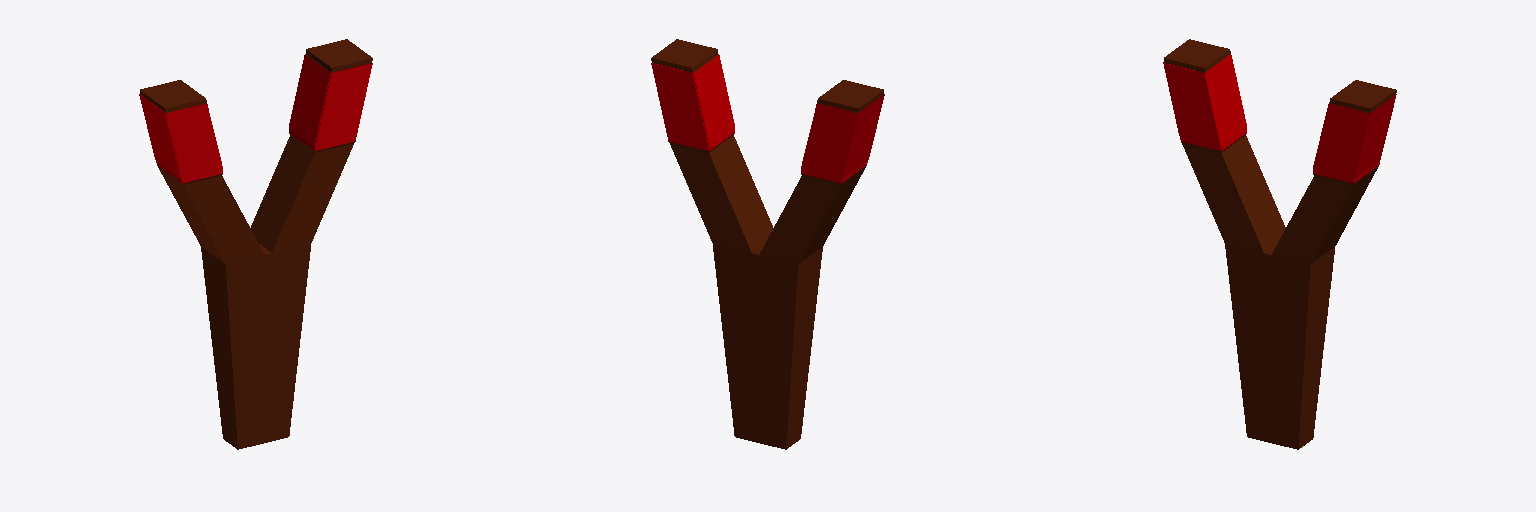
Rendered from slingshot.obj.
3 renders of one model, left to right at view 1: azimuth 30°, elevation 25°; view 2: azimuth 150°, elevation 25°; view 3: azimuth 330°, elevation 25°, orthographic.
Parts seen in each view (by area): view 1: Estilingue_Material.004_0, Estilingue_Material.003_0; view 2: Estilingue_Material.004_0, Estilingue_Material.003_0; view 3: Estilingue_Material.004_0, Estilingue_Material.003_0.
Part boxes in pixels (bbox=[...]): Estilingue_Material.004_0: bbox=[140, 39, 372, 449]; Estilingue_Material.003_0: bbox=[139, 55, 372, 183]; Estilingue_Material.004_0: bbox=[651, 39, 883, 449]; Estilingue_Material.003_0: bbox=[651, 55, 884, 183]; Estilingue_Material.004_0: bbox=[1164, 39, 1396, 449]; Estilingue_Material.003_0: bbox=[1163, 54, 1396, 183].
Size of the model in its own units: 0.1996 by 0.3343 by 0.0445.